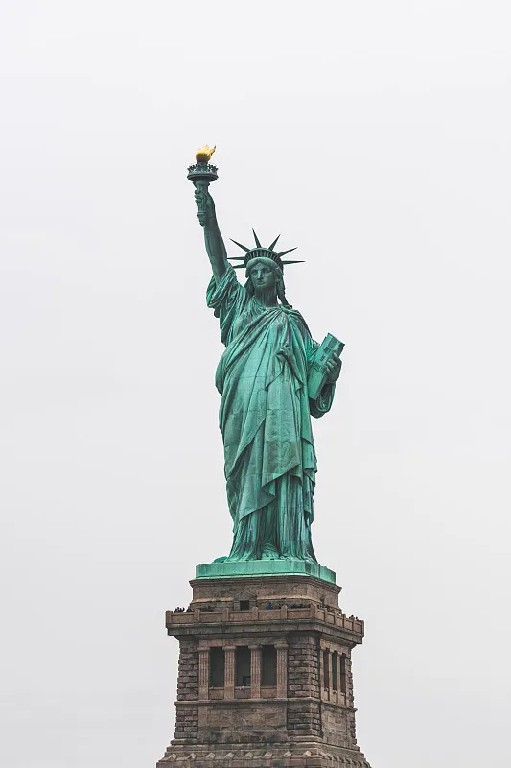SL: (155, 143, 371, 768)
